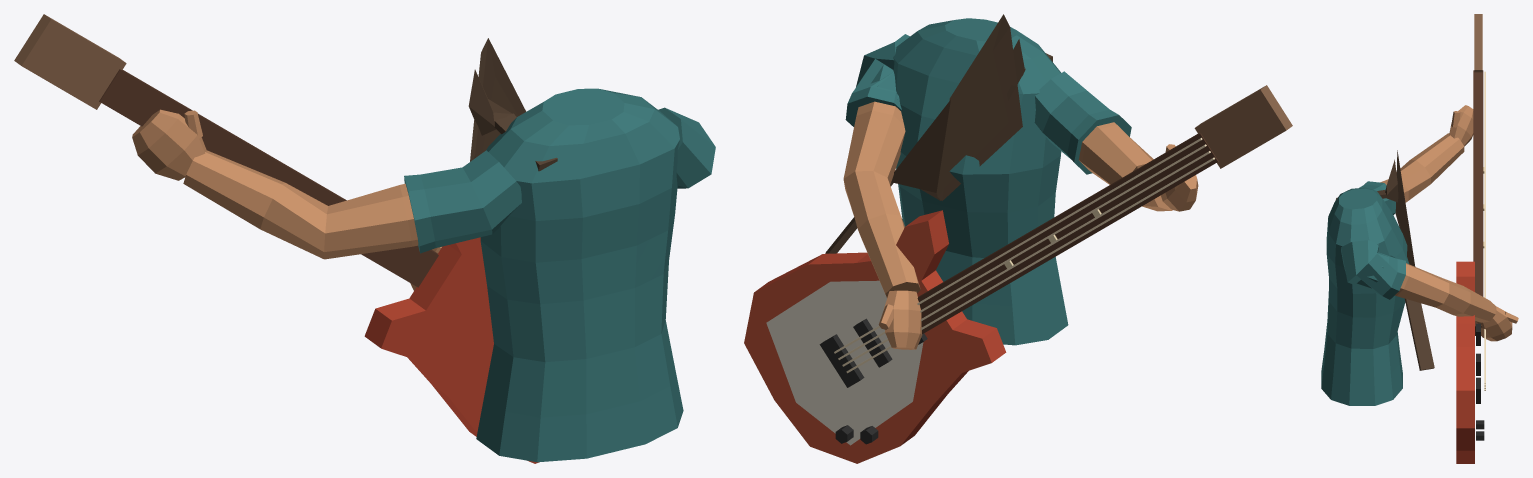
Rendered from lwf_guitarist_female_electric_kit_v2.glb.
3 views of the same model, side by side, from view 1: azimuth 30°, elevation 25°; view 2: azimuth 150°, elevation 25°; view 3: azimuth 270°, elevation 25° (orthographic). The views are drawn at different scales.
Parts seen in each view (by area): view 1: LWF_Guitarist_RightPlayingArm, LWF_Guitarist_ElectricGuitar, LWF_Guitarist_LeftPlayingArm, LWF_Fitted_LeatherStrap; view 2: LWF_Guitarist_ElectricGuitar, LWF_Guitarist_RightPlayingArm, LWF_Fitted_LeatherStrap, LWF_Guitarist_LeftPlayingArm; view 3: LWF_Guitarist_RightPlayingArm, LWF_Guitarist_ElectricGuitar, LWF_Guitarist_LeftPlayingArm, LWF_Fitted_LeatherStrap.
Part boxes in pixels (x1,y1,x2,y2): LWF_Guitarist_RightPlayingArm: [410, 88, 715, 462]; LWF_Guitarist_ElectricGuitar: [14, 14, 539, 463]; LWF_Guitarist_LeftPlayingArm: [132, 109, 521, 259]; LWF_Fitted_LeatherStrap: [468, 38, 557, 171]; LWF_Guitarist_ElectricGuitar: [744, 85, 1292, 463]; LWF_Guitarist_RightPlayingArm: [843, 18, 1068, 349]; LWF_Fitted_LeatherStrap: [825, 14, 1052, 253]; LWF_Guitarist_LeftPlayingArm: [1034, 71, 1198, 211]; LWF_Guitarist_RightPlayingArm: [1321, 187, 1518, 405]; LWF_Guitarist_ElectricGuitar: [1456, 14, 1485, 463]; LWF_Guitarist_LeftPlayingArm: [1359, 105, 1473, 214]; LWF_Fitted_LeatherStrap: [1335, 150, 1434, 370].
Bounding box in the file's own units: 0.9788 × 0.8159 × 0.4719.
3 materials, 3 textured.
